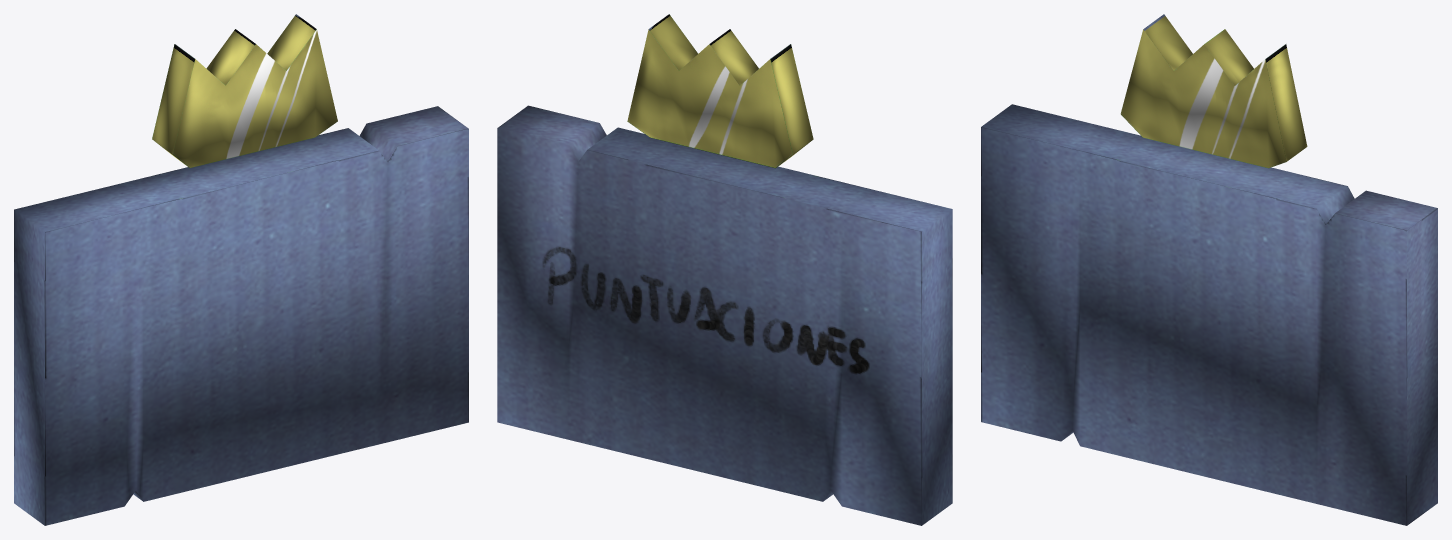
The model's file is Puntuaciones.obj.
3 renders of one model, left to right at view 1: azimuth 30°, elevation 25°; view 2: azimuth 150°, elevation 25°; view 3: azimuth 330°, elevation 25°, orthographic.
Visible parts, largest first — view 1: Box001, Box002; view 2: Box001, Box002; view 3: Box001, Box002.
Part boxes in pixels (left/top/right/bottom): Box001: left=14, top=106, right=468, bottom=525; Box002: left=152, top=14, right=337, bottom=167; Box001: left=497, top=105, right=952, bottom=525; Box002: left=627, top=14, right=813, bottom=168; Box001: left=981, top=104, right=1437, bottom=525; Box002: left=1120, top=14, right=1307, bottom=168.
Size of the model in its own units: 46.41 by 44.47 by 5.85.
